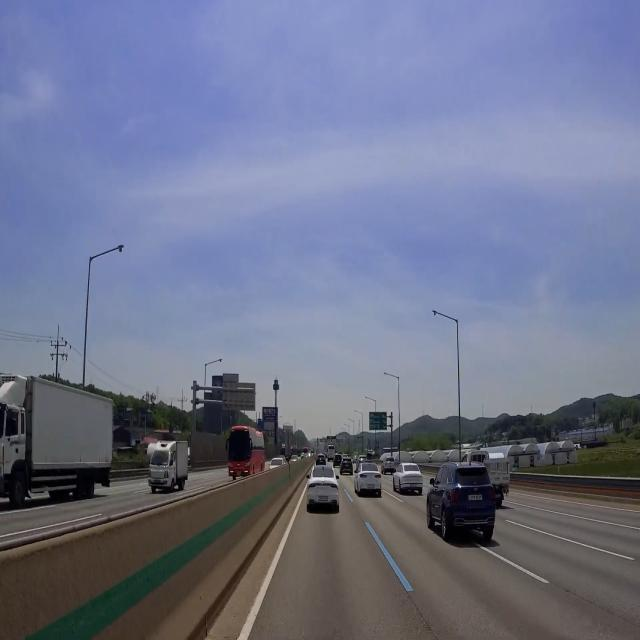car: (465, 488, 486, 507), (316, 490, 334, 507), (234, 467, 245, 481), (152, 475, 163, 488), (365, 481, 376, 493)
